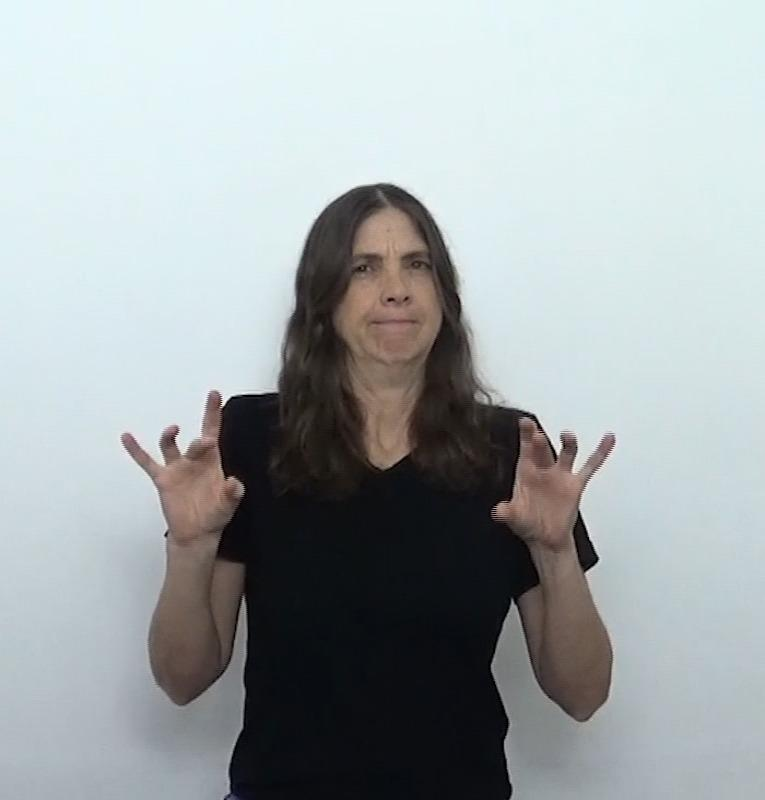Dolor: (98, 152, 650, 729)
